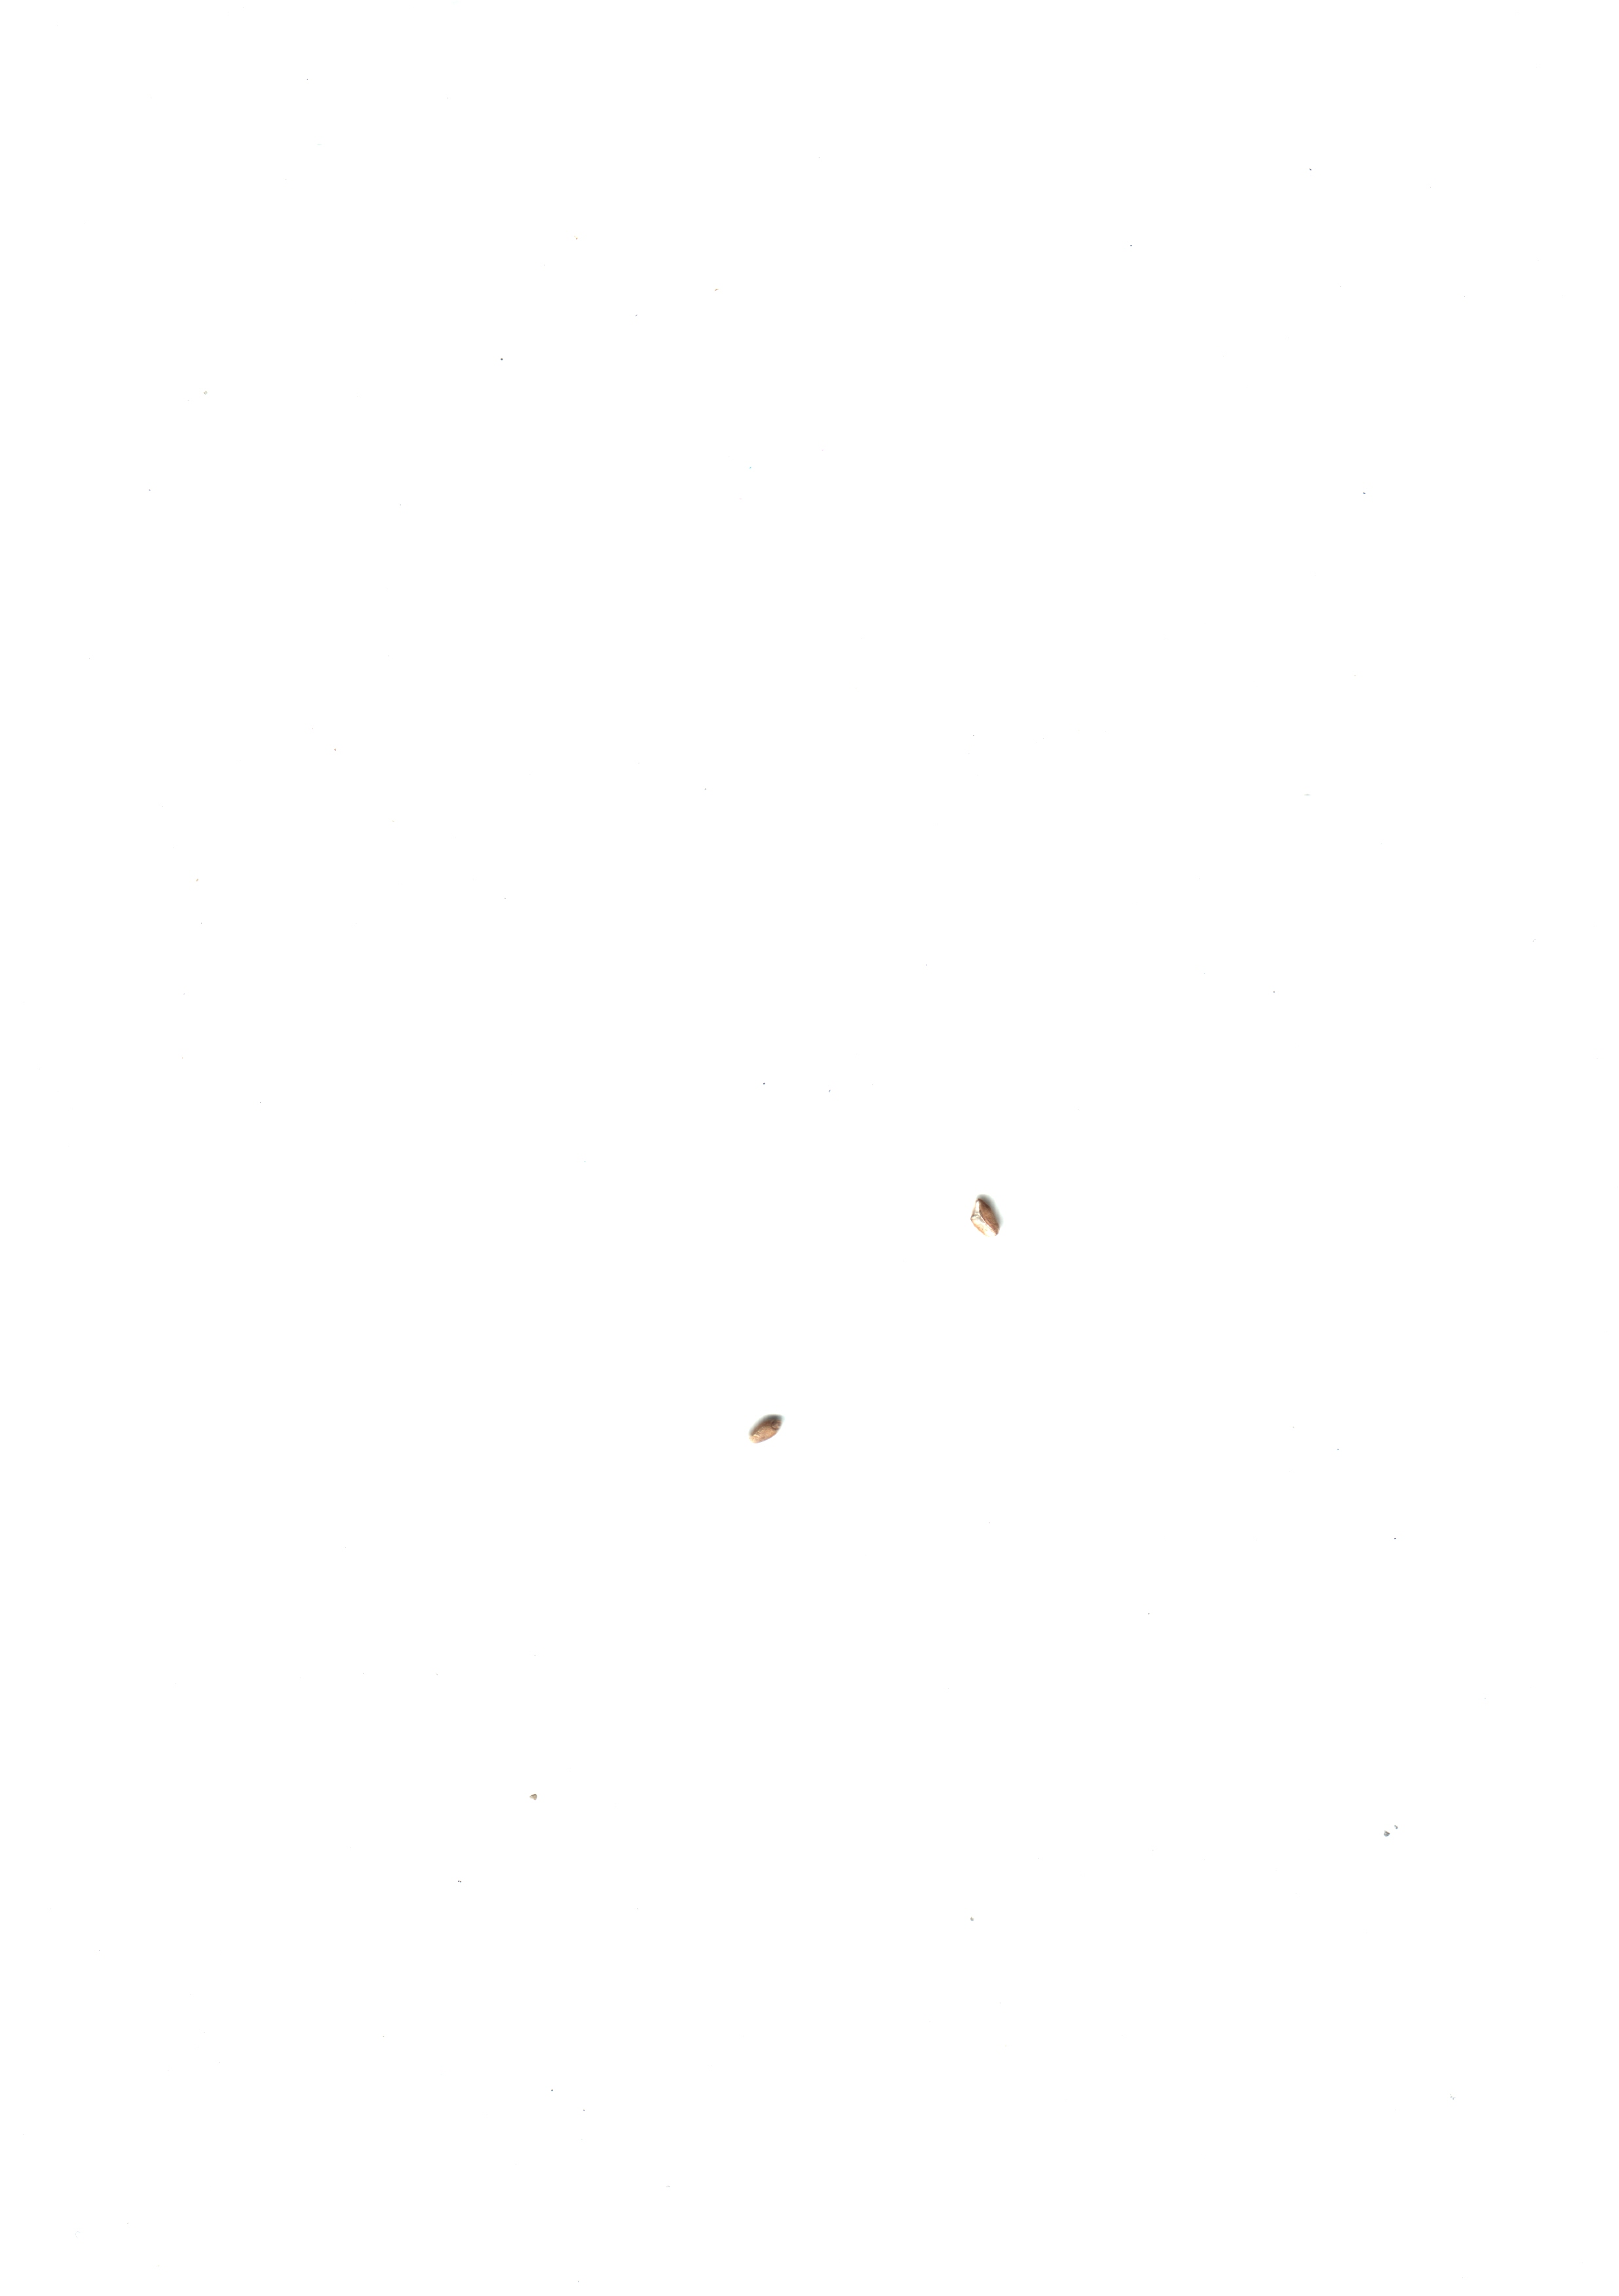grains_2mm: (941, 1171, 1023, 1250), (725, 1395, 806, 1472)
